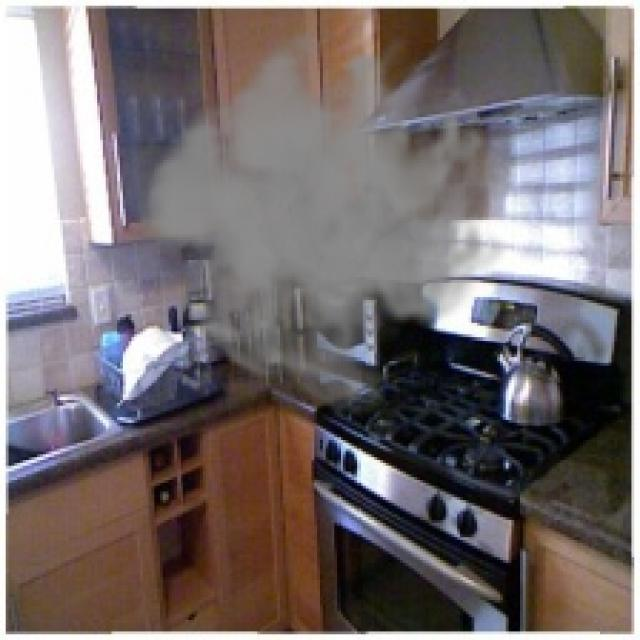smoke: (134, 11, 509, 420)
